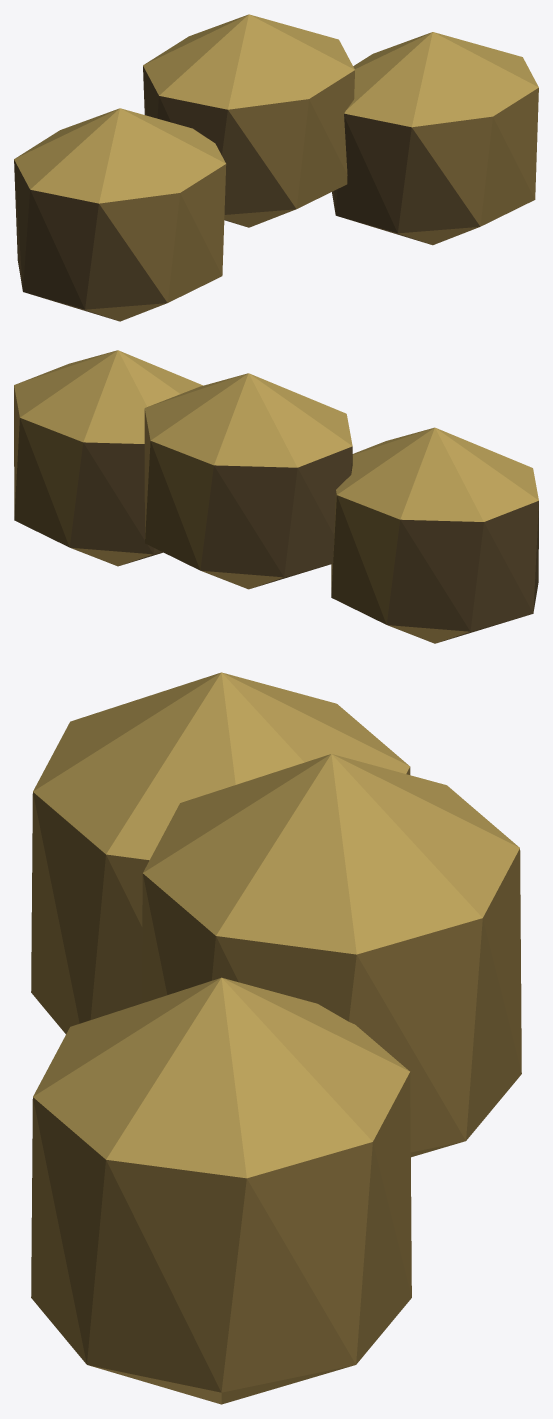
File: TW_VEG_BUSH_SPARSE_B_LOD0.glb
3 views of the same model, one above another, from view 1: azimuth 30°, elevation 25°; view 2: azimuth 150°, elevation 25°; view 3: azimuth 270°, elevation 25° (orthographic). The views are drawn at different scales.
Visible parts, largest first — view 1: TW_VEG_BUSH_SPARSE_B_LOD0; view 2: TW_VEG_BUSH_SPARSE_B_LOD0; view 3: TW_VEG_BUSH_SPARSE_B_LOD0.
Part boxes in pixels (box(x1,y1,x2,y2)): TW_VEG_BUSH_SPARSE_B_LOD0: box(14, 14, 538, 321); TW_VEG_BUSH_SPARSE_B_LOD0: box(14, 350, 538, 643); TW_VEG_BUSH_SPARSE_B_LOD0: box(31, 672, 521, 1404).
Size of the model in its own units: 1.49 by 0.7 by 0.625.
1 material, 1 textured.
